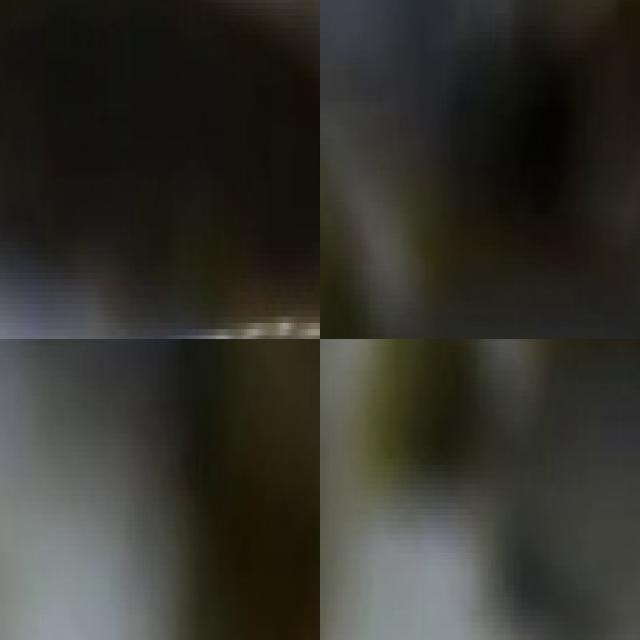fish: (0, 0, 320, 339), (320, 7, 640, 339), (331, 339, 640, 640), (221, 339, 320, 640)
